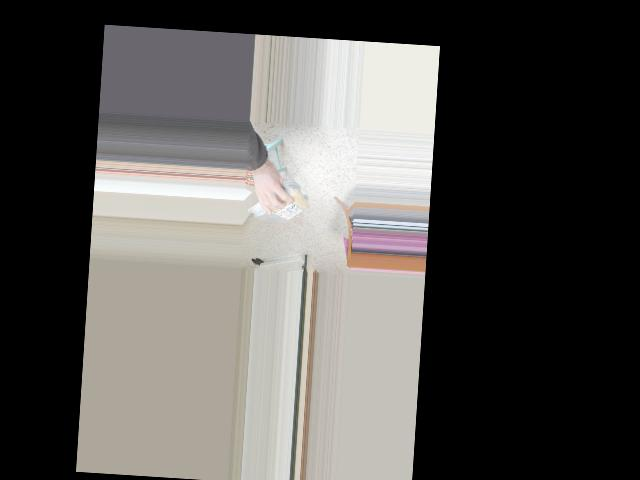cheese: (250, 189, 316, 220)
